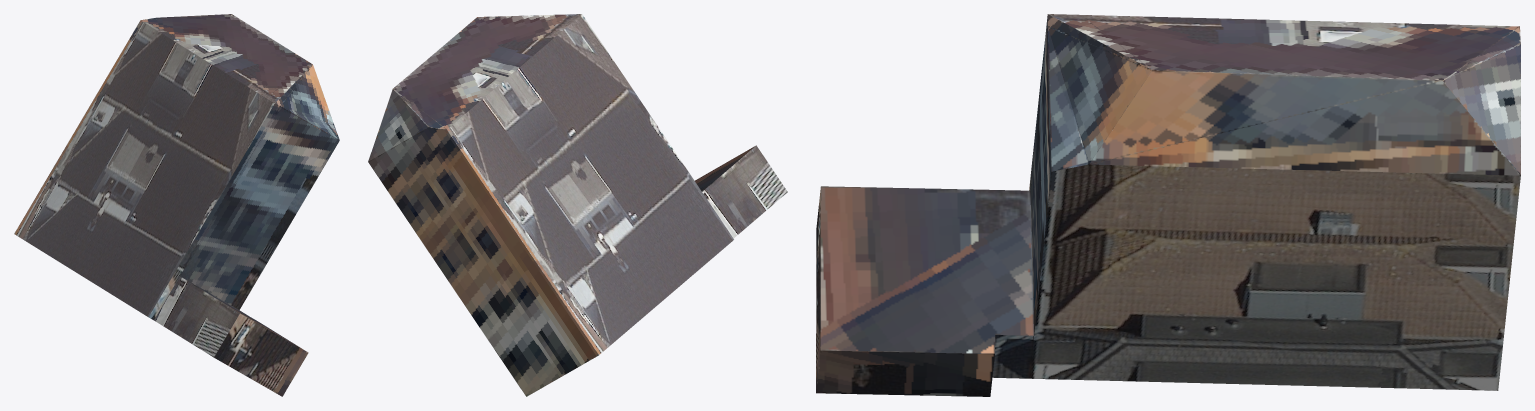
3 renders of one model, left to right at view 1: azimuth 30°, elevation 25°; view 2: azimuth 150°, elevation 25°; view 3: azimuth 270°, elevation 25°, orthographic. The views are drawn at different scales.
Visible parts, largest first — view 1: BAG_0599100000688743 (×4); view 2: BAG_0599100000688743 (×4); view 3: BAG_0599100000688743 (×4).
Part boxes in pixels (left/top/right/bottom): BAG_0599100000688743 (×4): left=14, top=14, right=339, bottom=396; BAG_0599100000688743 (×4): left=368, top=14, right=787, bottom=396; BAG_0599100000688743 (×4): left=816, top=14, right=1520, bottom=396.
Size of the model in its own units: 11.53 by 12.78 by 18.36.
1 material, 1 textured.
